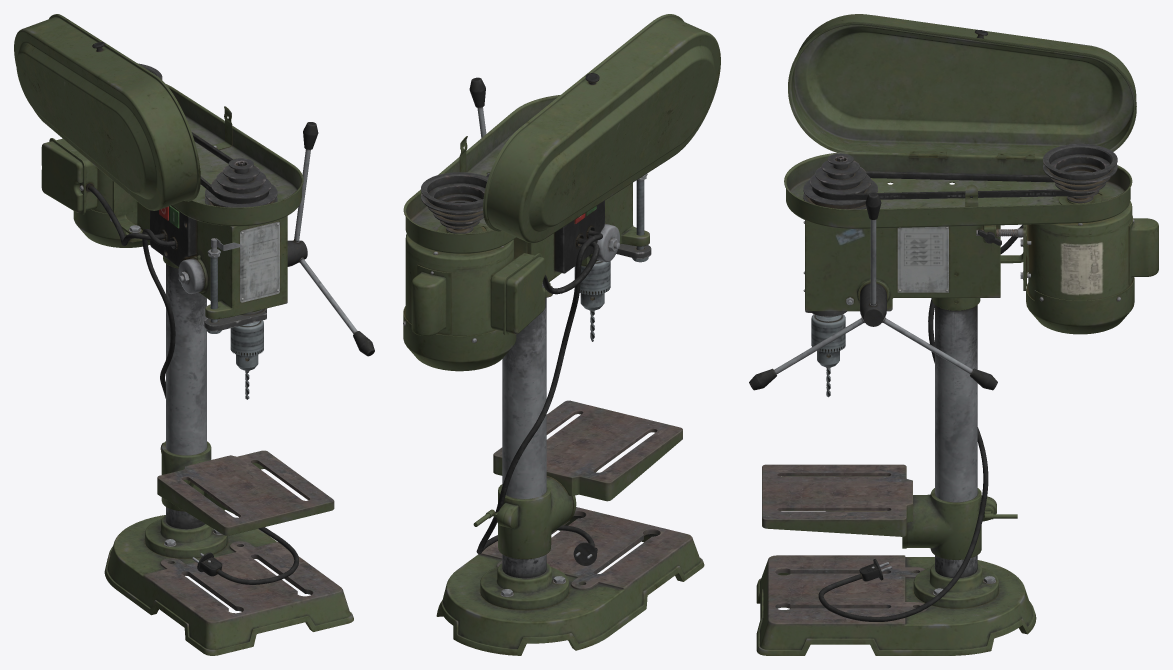
The model's file is drill_press_01.glb.
3 renders of one model, left to right at view 1: azimuth 30°, elevation 25°; view 2: azimuth 150°, elevation 25°; view 3: azimuth 270°, elevation 25°, orthographic. The views are drawn at different scales.
Parts seen in each view (by area): view 1: drill_press_01, drill_press_01_lid, drill_press_01_plate, drill_press_01_gear_b, drill_press_01_plug, drill_press_01_handle, drill_press_01_limiter, drill_press_01_bit, drill_press_01_belt; view 2: drill_press_01, drill_press_01_lid, drill_press_01_plate, drill_press_01_gear_a, drill_press_01_plug, drill_press_01_bit, drill_press_01_limiter, drill_press_01_handle; view 3: drill_press_01, drill_press_01_lid, drill_press_01_plate, drill_press_01_handle, drill_press_01_gear_a, drill_press_01_belt, drill_press_01_plug, drill_press_01_gear_b, drill_press_01_bit.
Part boxes in pixels (left/top/right/bottom): drill_press_01: left=41, top=84, right=353, bottom=655; drill_press_01_lid: left=14, top=14, right=200, bottom=210; drill_press_01_plate: left=157, top=441, right=334, bottom=535; drill_press_01_gear_b: left=205, top=158, right=277, bottom=207; drill_press_01_plug: left=142, top=229, right=298, bottom=584; drill_press_01_handle: left=287, top=122, right=374, bottom=356; drill_press_01_limiter: left=204, top=238, right=266, bottom=333; drill_press_01_bit: left=230, top=320, right=263, bottom=399; drill_press_01_belt: left=191, top=132, right=268, bottom=203; drill_press_01: left=403, top=95, right=704, bottom=655; drill_press_01_lid: left=483, top=14, right=720, bottom=243; drill_press_01_plate: left=493, top=400, right=682, bottom=559; drill_press_01_gear_a: left=421, top=172, right=488, bottom=233; drill_press_01_plug: left=476, top=230, right=602, bottom=565; drill_press_01_bit: left=574, top=260, right=610, bottom=341; drill_press_01_limiter: left=616, top=173, right=651, bottom=262; drill_press_01_handle: left=469, top=77, right=489, bottom=174; drill_press_01: left=756, top=152, right=1158, bottom=655; drill_press_01_lid: left=788, top=14, right=1136, bottom=160; drill_press_01_plate: left=762, top=464, right=996, bottom=559; drill_press_01_handle: left=749, top=192, right=997, bottom=390; drill_press_01_gear_a: left=1043, top=143, right=1117, bottom=203; drill_press_01_belt: left=812, top=171, right=1095, bottom=200; drill_press_01_plug: left=818, top=298, right=988, bottom=621; drill_press_01_gear_b: left=803, top=153, right=877, bottom=209; drill_press_01_bit: left=811, top=314, right=845, bottom=397.
Bounding box in the file's own units: 0.3543 × 0.9011 × 0.5988.
Materials: 1 (1 with a texture image).
